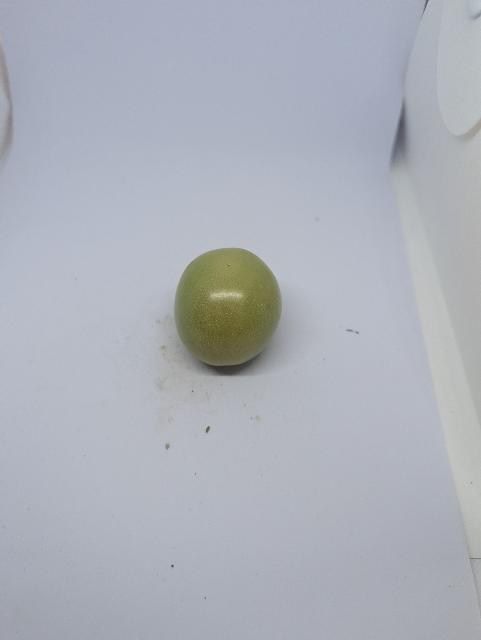green: (172, 245, 284, 371)
